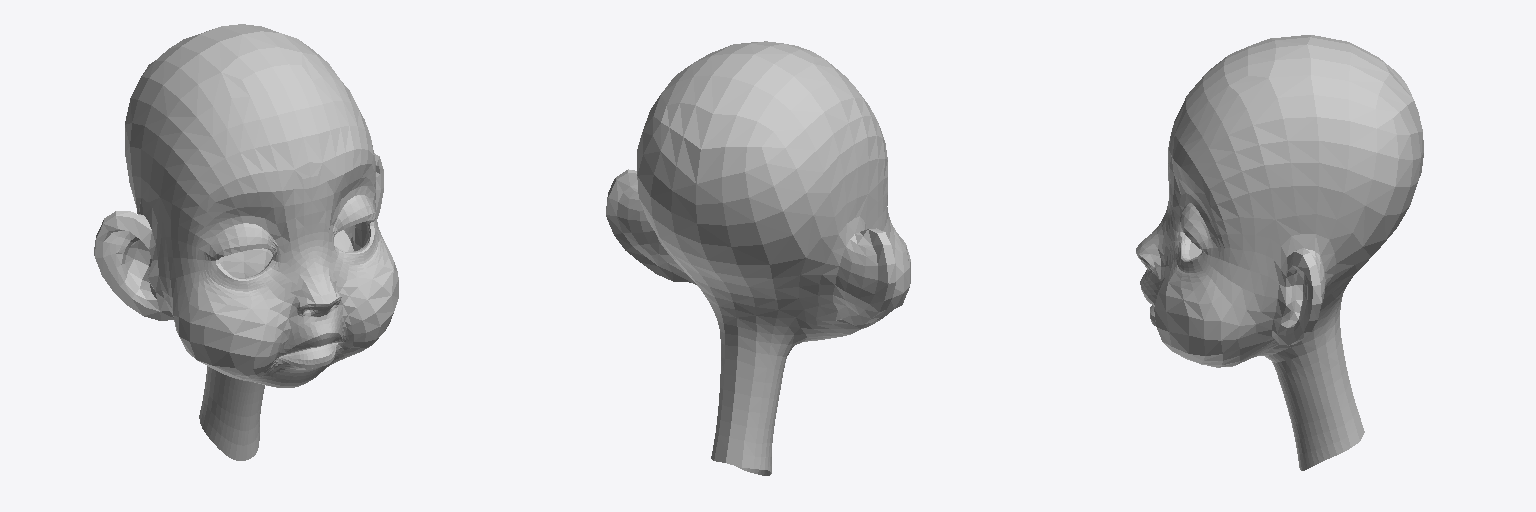
Rendered from cheekPuff.obj.
The picture shows the model from 3 angles: view 1: azimuth 30°, elevation 25°; view 2: azimuth 150°, elevation 25°; view 3: azimuth 270°, elevation 25°; orthographic projection.
Visible parts, largest first — view 1: ZBrushPolyMesh3D; view 2: ZBrushPolyMesh3D; view 3: ZBrushPolyMesh3D.
Boxes of the visible parts, box(x1,y1,x2,y2) form: ZBrushPolyMesh3D: box(94, 24, 398, 460); ZBrushPolyMesh3D: box(606, 41, 910, 475); ZBrushPolyMesh3D: box(1136, 35, 1423, 470).
Size of the model in its own units: 5.74 by 8.03 by 4.96.